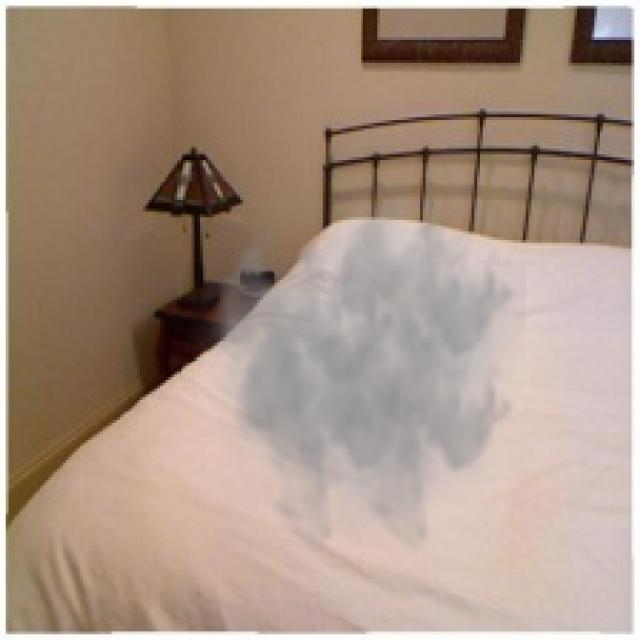Smoke: (183, 188, 526, 554)
